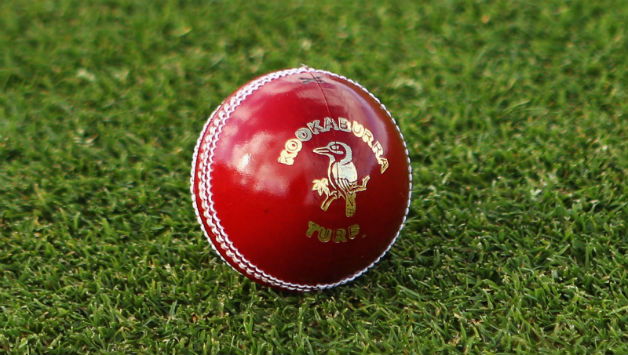red ball: (189, 68, 413, 292)
